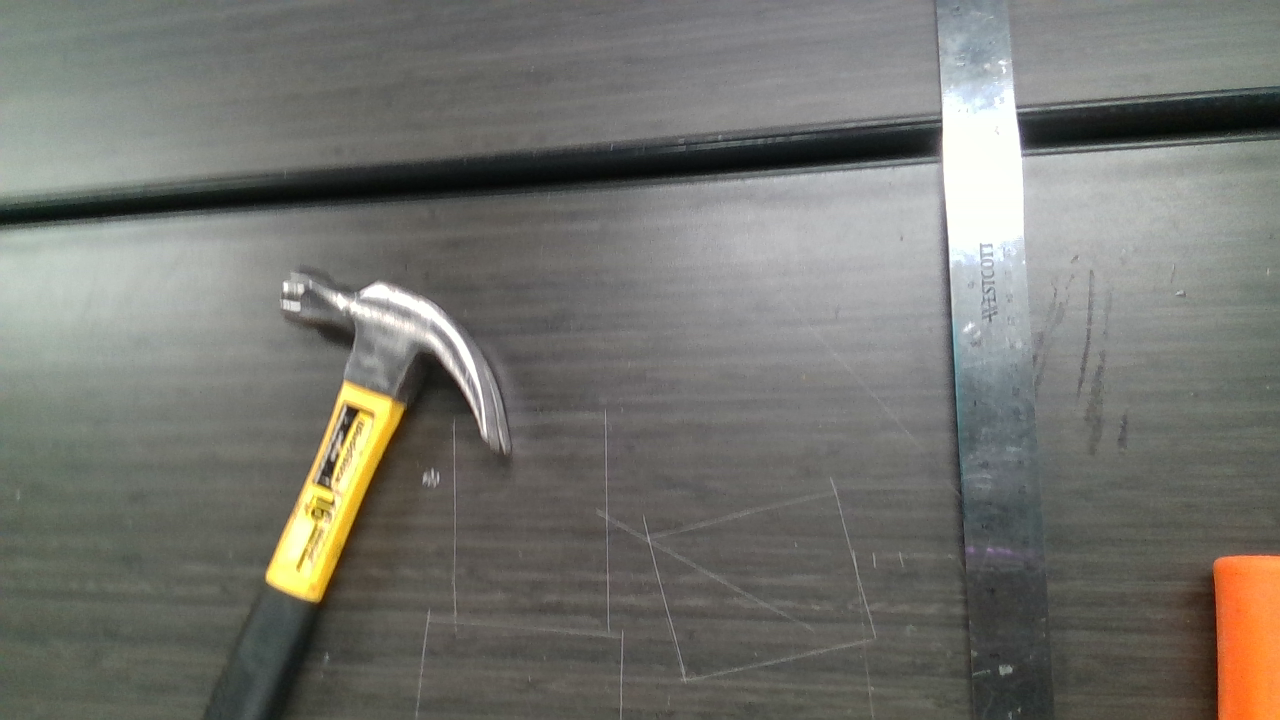Orange Hammer: (1216, 552, 1280, 720)
